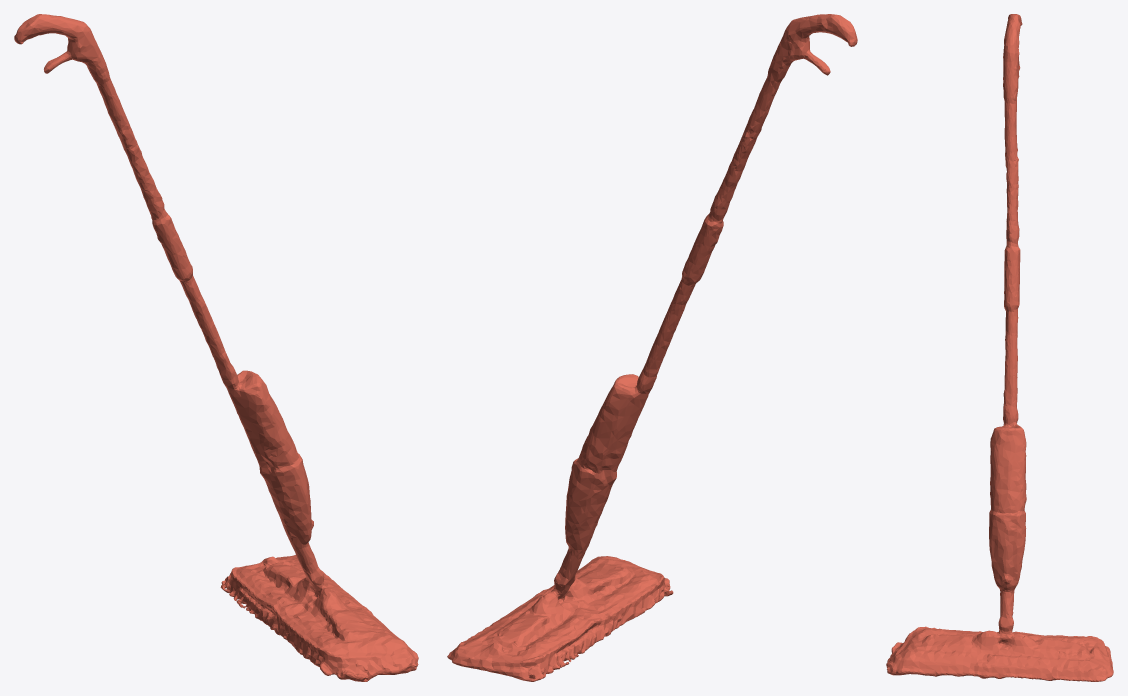
Rendered from hum_13_mop_props.glb.
3 renders of one model, left to right at view 1: azimuth 30°, elevation 25°; view 2: azimuth 150°, elevation 25°; view 3: azimuth 270°, elevation 25°, orthographic. The views are drawn at different scales.
Visible parts, largest first — view 1: o00; view 2: o00; view 3: o00.
Boxes of the visible parts, bbox=[...] form: o00: bbox=[14, 14, 418, 681]; o00: bbox=[447, 14, 857, 681]; o00: bbox=[886, 14, 1113, 681].
Bounding box in the file's own units: 0.6142 × 1.14 × 0.4305.
